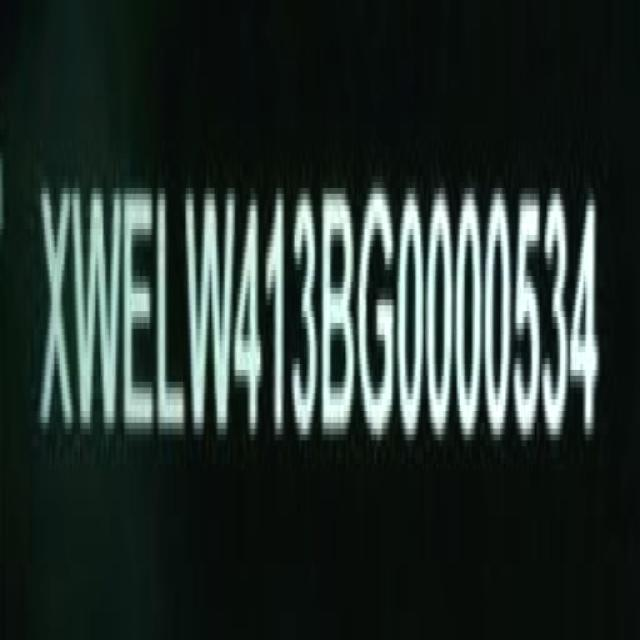0: (397, 184, 428, 444), (426, 187, 455, 443), (484, 183, 512, 445), (456, 185, 483, 445)
1: (266, 186, 290, 450)
3: (294, 184, 322, 451), (545, 187, 573, 450)
4: (233, 182, 263, 450), (571, 196, 603, 447)
5: (514, 182, 542, 447)
B: (321, 182, 356, 447)
E: (123, 183, 158, 449)
G: (358, 185, 395, 448)
L: (156, 186, 186, 447)
W: (72, 178, 125, 448), (182, 185, 235, 437)
X: (36, 178, 72, 448)
